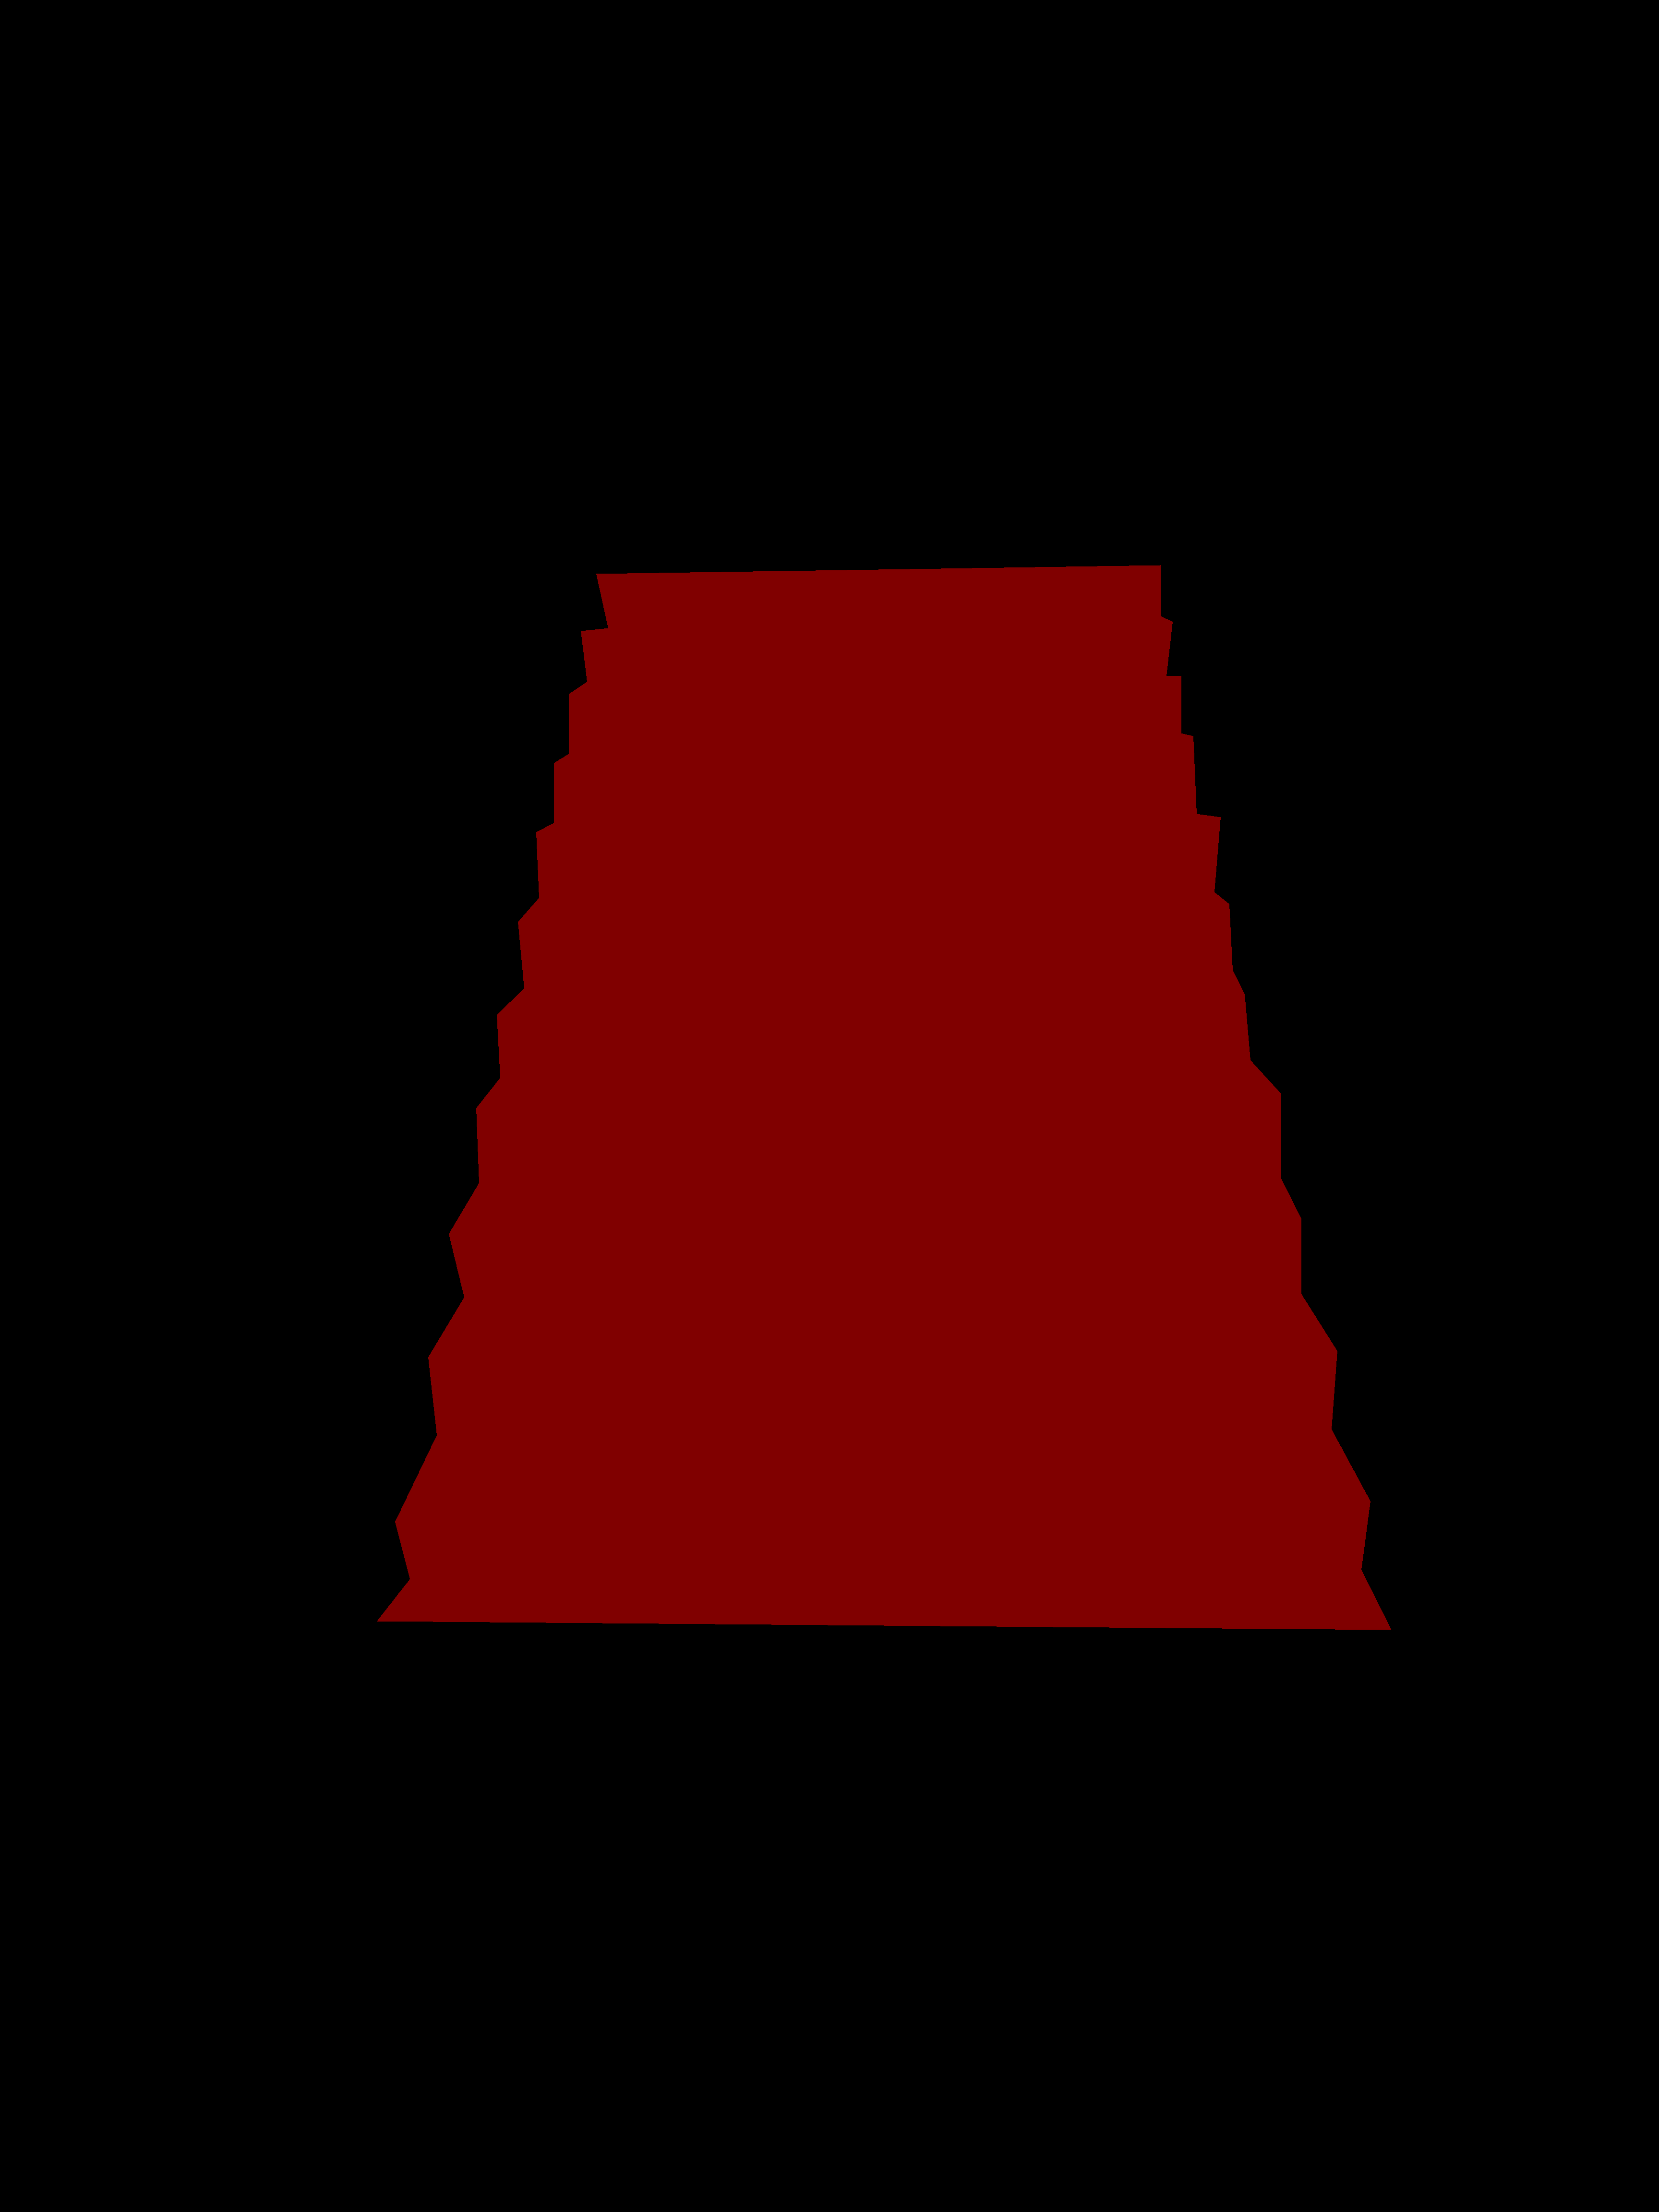stair: (376, 564, 1391, 1630)
